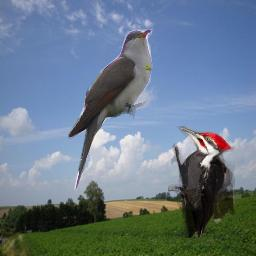Cuckoo: (67, 29, 153, 193)
Woodpecker: (168, 126, 235, 238)
